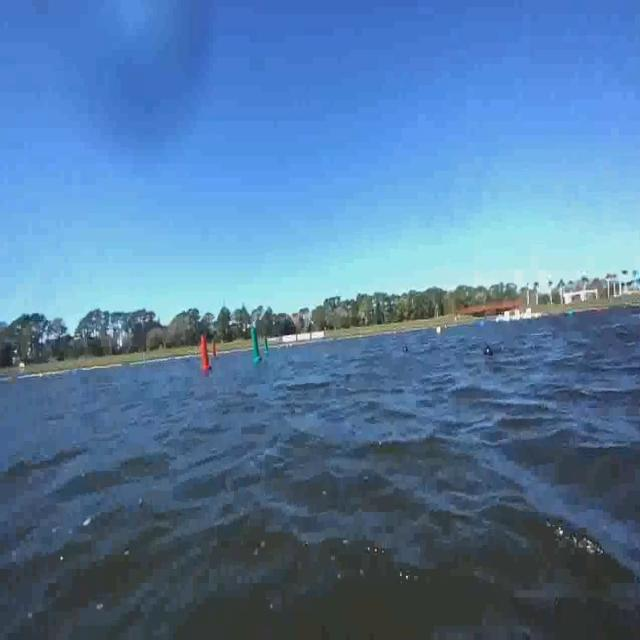black-buoy: (485, 342, 494, 358), (403, 344, 409, 352)
green-column-buoy: (250, 327, 262, 362), (266, 339, 271, 356)
red-column-buoy: (200, 336, 214, 372), (212, 342, 218, 359)
yellow-buoy: (435, 327, 442, 338)
